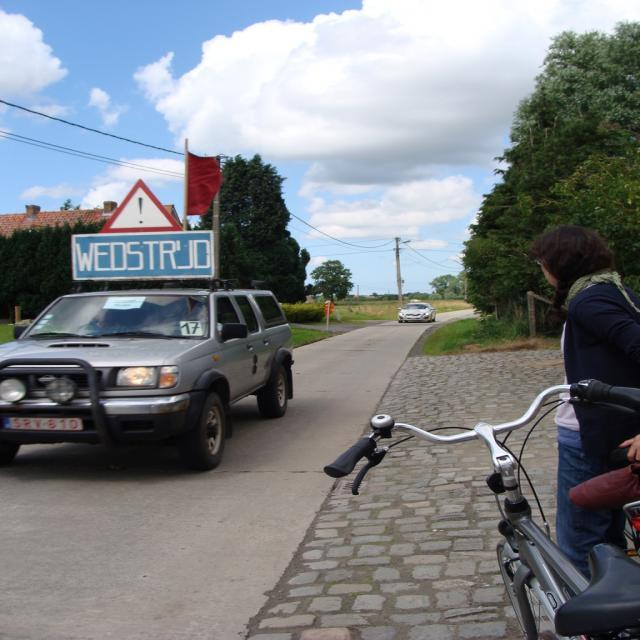car: (342, 367, 616, 637)
